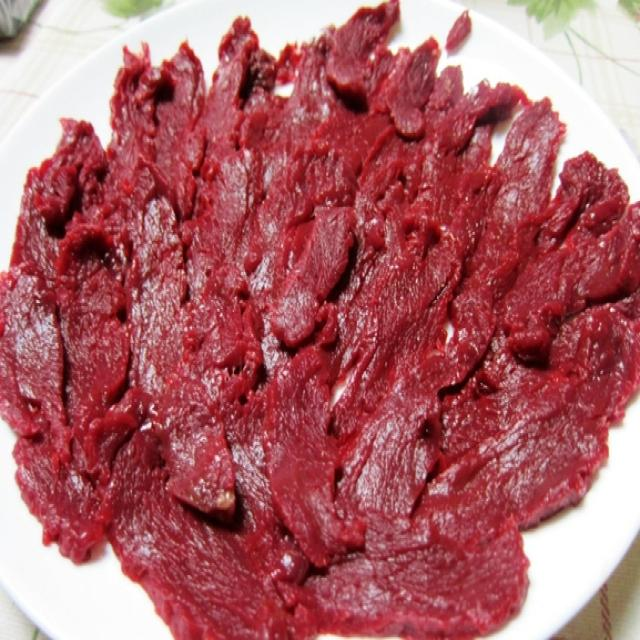刺身生食: (10, 18, 636, 631)
